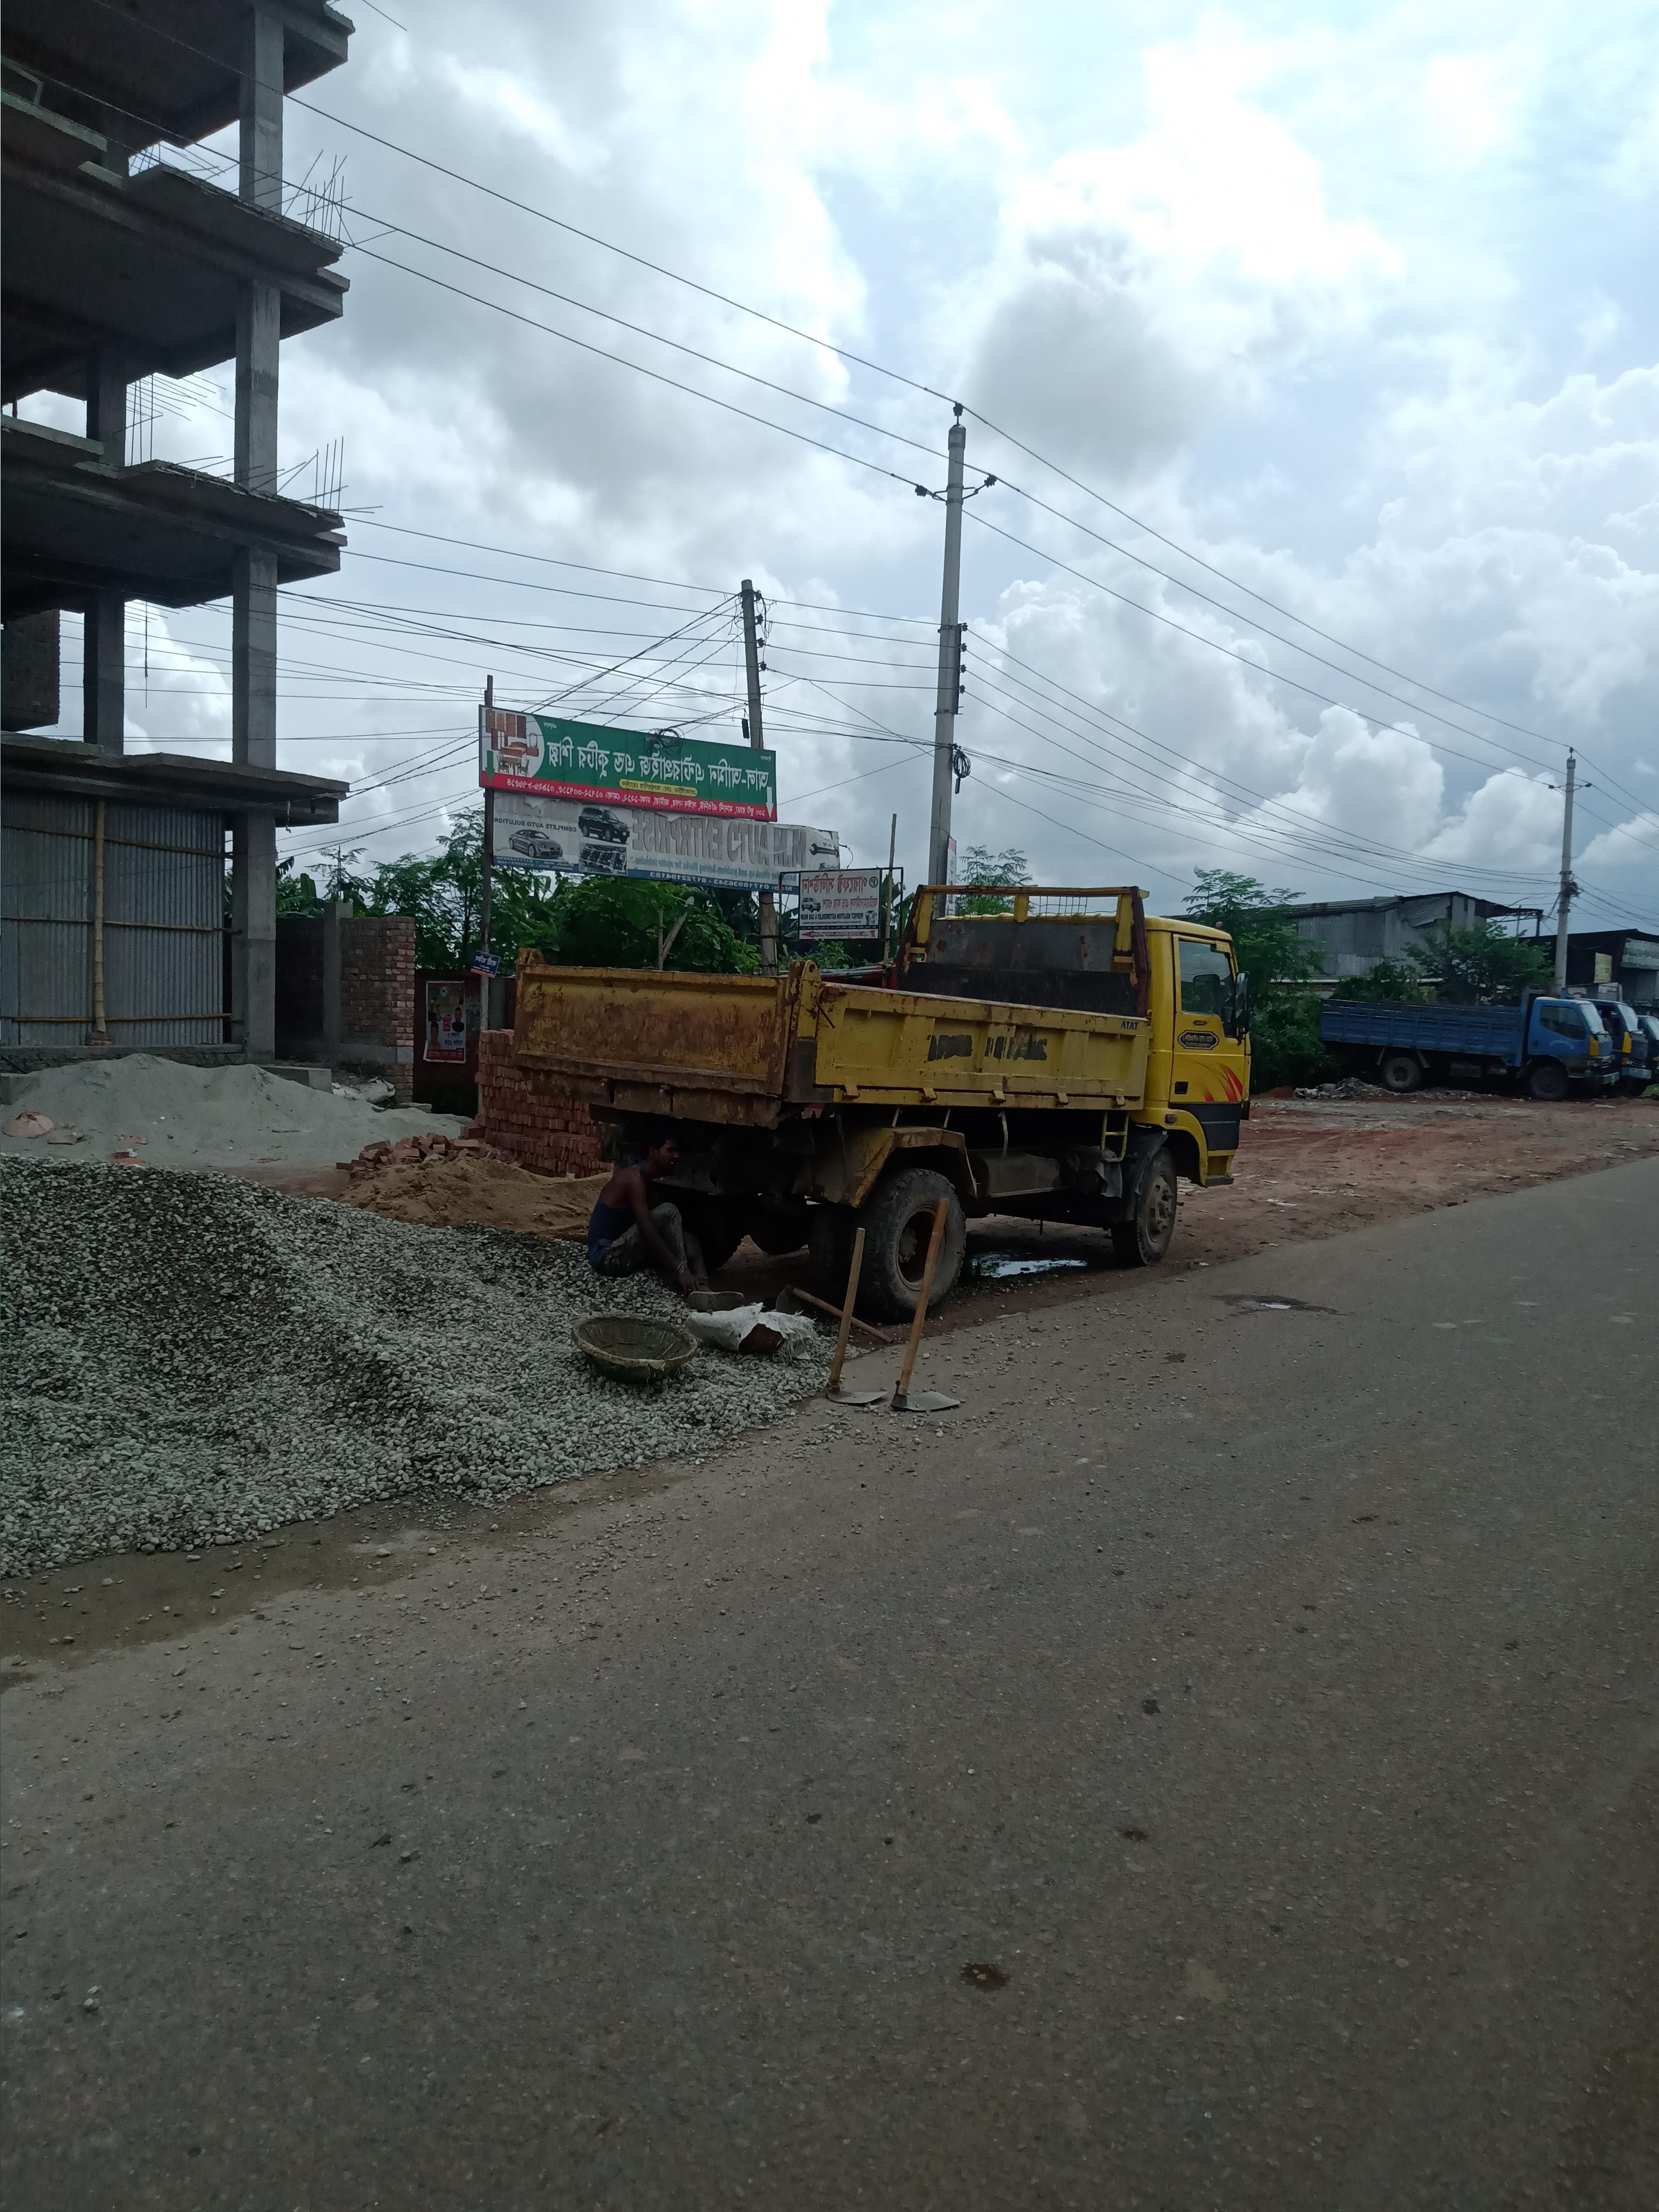truck: (514, 850, 1255, 1308), (1237, 904, 1615, 1141)
